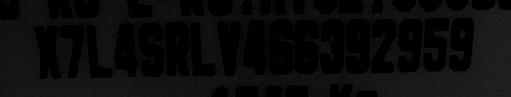letter: (447, 14, 475, 73), (265, 17, 293, 76), (112, 20, 140, 79), (84, 23, 114, 78), (345, 14, 372, 75), (163, 18, 190, 79), (137, 20, 165, 77), (241, 17, 268, 76), (318, 17, 345, 76), (292, 18, 319, 77), (215, 19, 242, 78), (33, 24, 61, 79), (422, 15, 449, 72), (371, 16, 398, 73), (190, 21, 217, 78), (57, 23, 84, 80), (397, 16, 423, 73)
